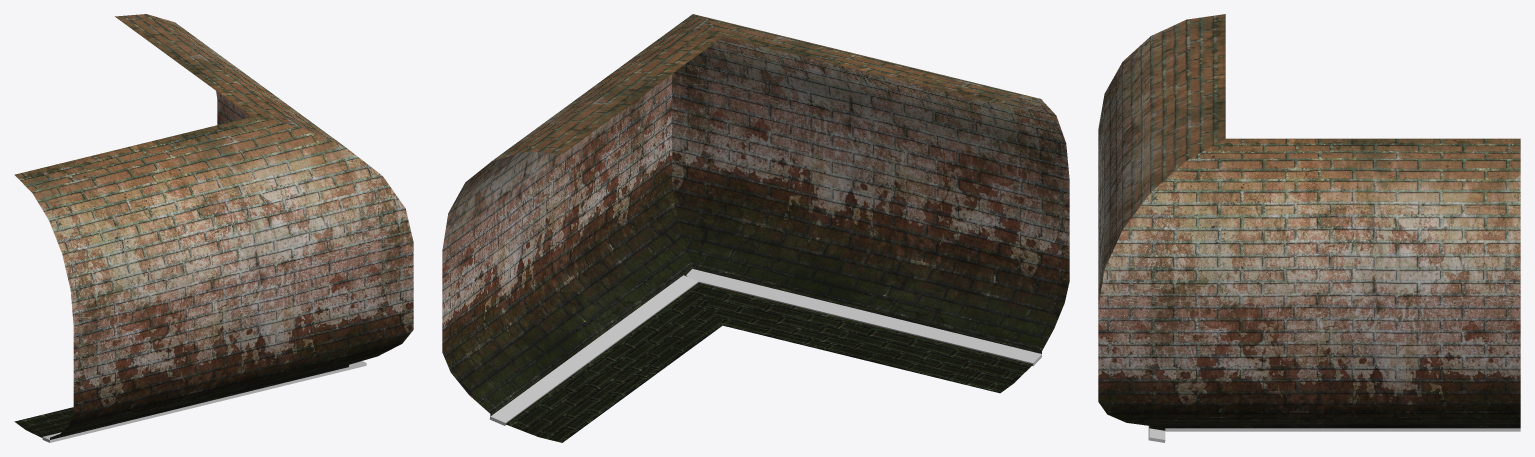
File: TL_concave.DAE
3 renders of one model, left to right at view 1: azimuth 30°, elevation 25°; view 2: azimuth 150°, elevation 25°; view 3: azimuth 270°, elevation 25°, orthographic. The views are drawn at different scales.
Visible parts, largest first — view 1: tunnel_low_concave, tunnel_low_drain_concave, tunnel_low_floor_concave; view 2: tunnel_low_concave, tunnel_low_floor_concave, tunnel_low_drain_concave; view 3: tunnel_low_concave, tunnel_low_drain_concave.
Boxes of the visible parts, box(x1,y1,x2,y2) form: tunnel_low_concave: box(14, 14, 413, 439); tunnel_low_drain_concave: box(42, 361, 366, 442); tunnel_low_floor_concave: box(14, 407, 73, 437); tunnel_low_concave: box(442, 14, 1069, 416); tunnel_low_floor_concave: box(505, 275, 1032, 442); tunnel_low_drain_concave: box(489, 269, 1042, 425); tunnel_low_concave: box(1098, 14, 1520, 430); tunnel_low_drain_concave: box(1148, 426, 1520, 442).
Bounding box in the file's own units: 4.3 × 4.3 × 2.98.
